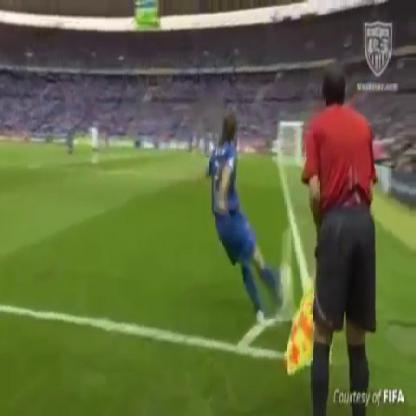corner kick: (161, 84, 322, 399)
